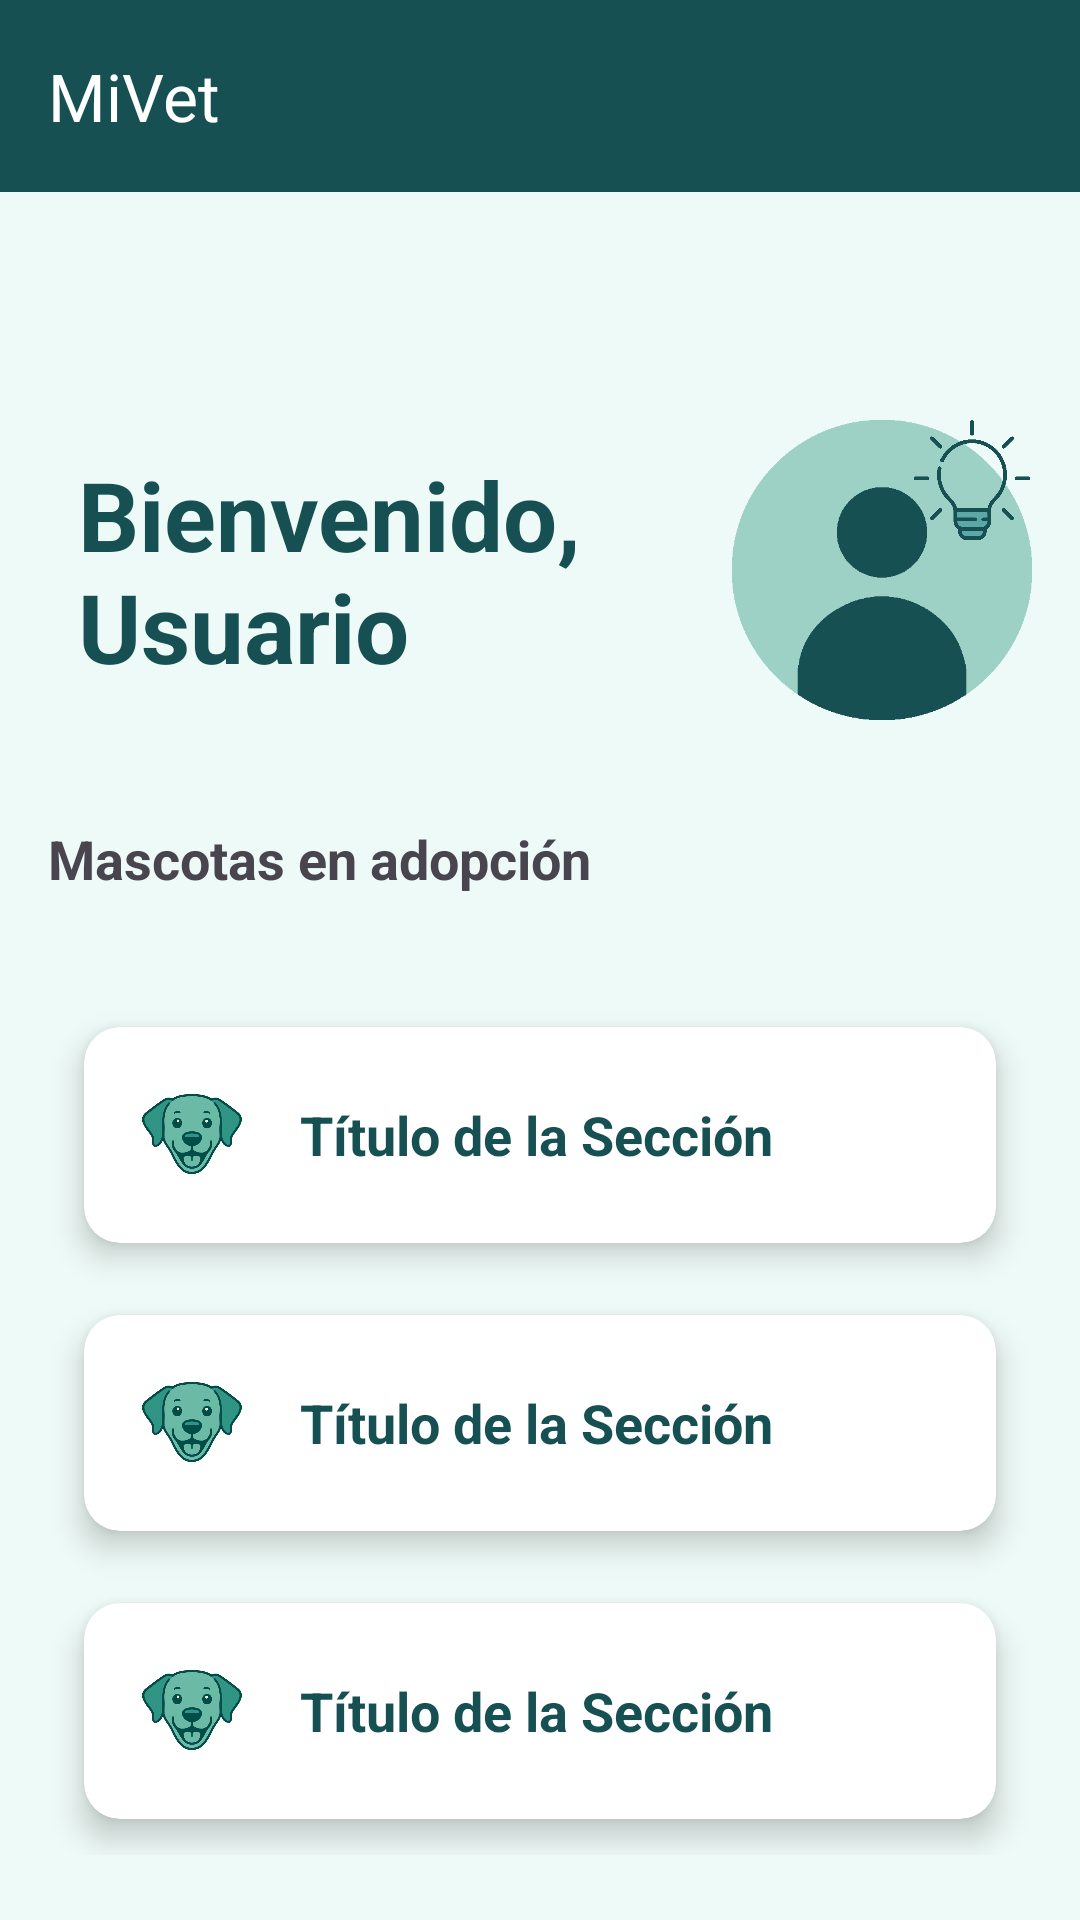

Icon click points for this 1080 × 1920 phone screenshot, format point (x, y):
perro: point (192, 1134), point (192, 1422), point (192, 1710)
